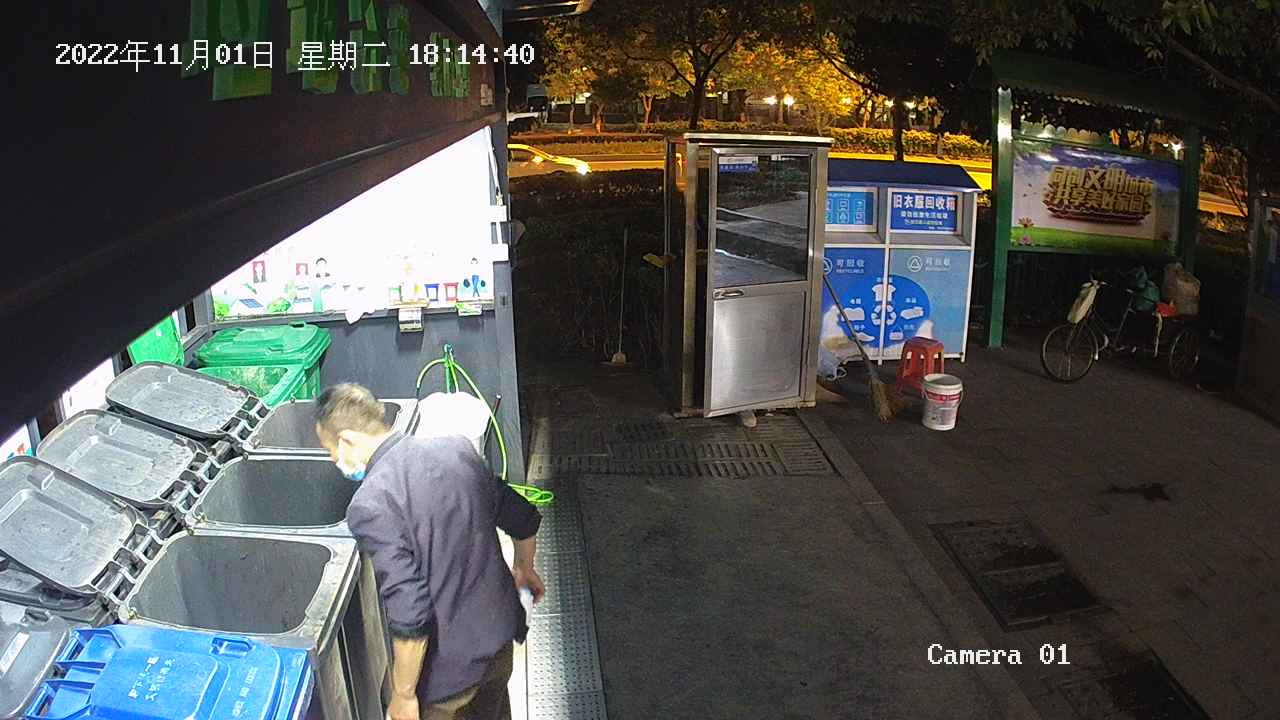person: (310, 380, 547, 720)
